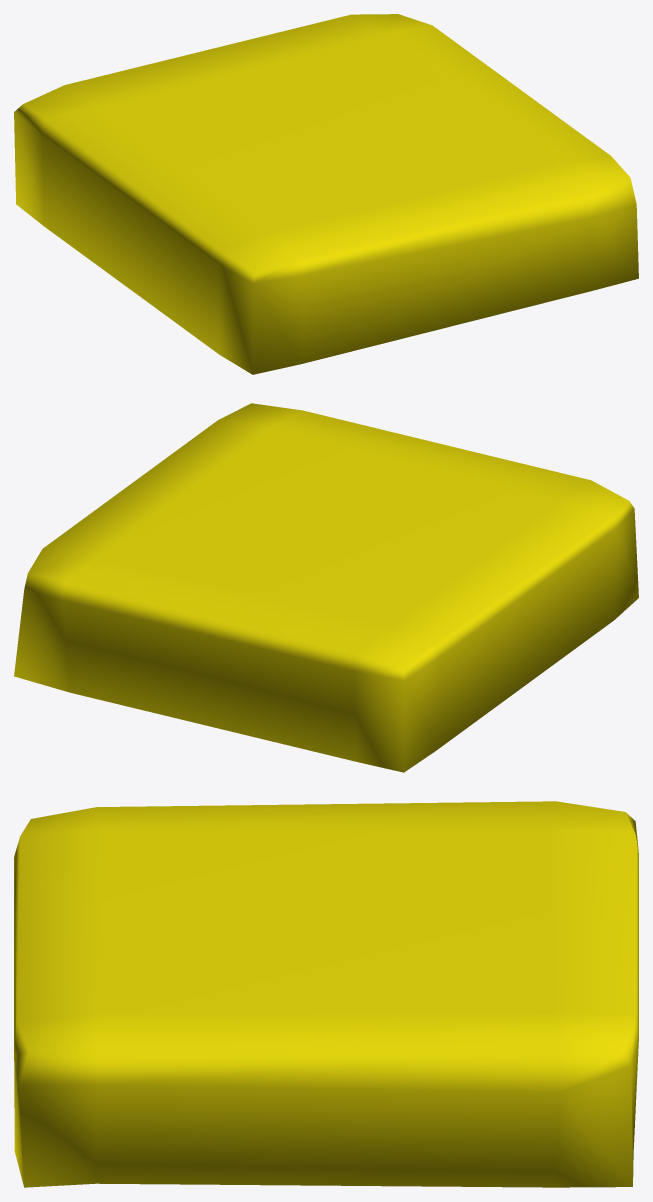
File: Pillar_Block_01_Lod0.fbx
3 views of the same model, one above another, from view 1: azimuth 30°, elevation 25°; view 2: azimuth 150°, elevation 25°; view 3: azimuth 270°, elevation 25° (orthographic). The views are drawn at different scales.
Parts seen in each view (by area): view 1: Pillar_Block_01_Lod0; view 2: Pillar_Block_01_Lod0; view 3: Pillar_Block_01_Lod0.
Boxes of the visible parts, x1,y1,x2,y2 form: Pillar_Block_01_Lod0: [14, 14, 638, 374]; Pillar_Block_01_Lod0: [14, 403, 638, 772]; Pillar_Block_01_Lod0: [14, 801, 638, 1187].
Bounding box in the file's own units: 564 × 153 × 594.
